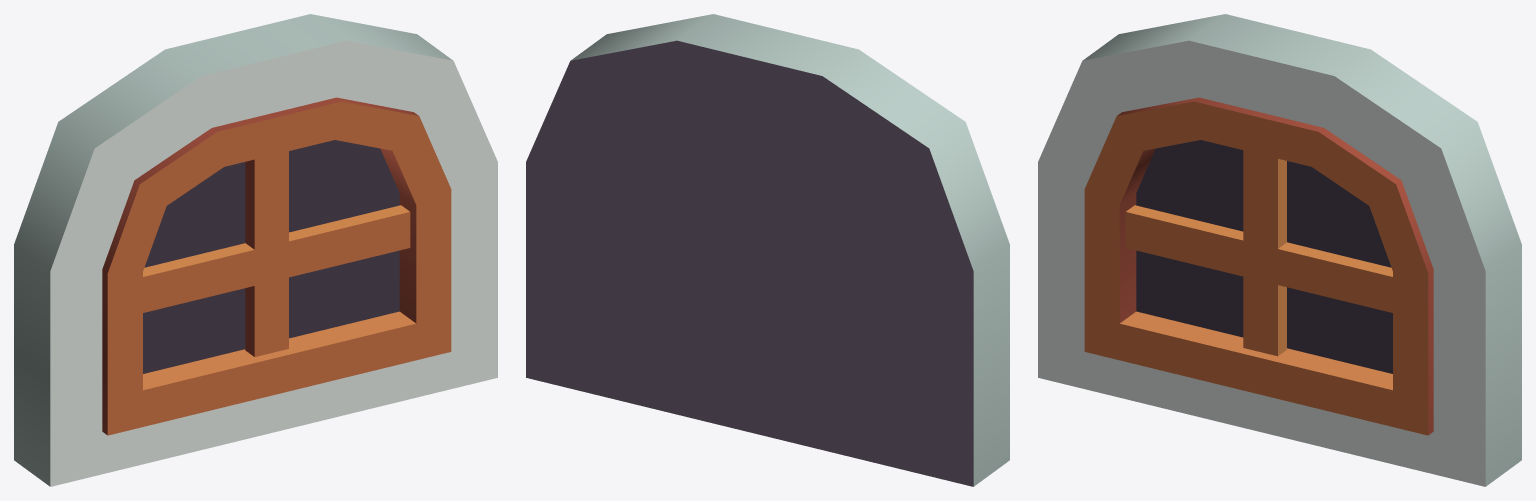
Rendered from Window01_White_Wood.glb.
3 views of the same model, side by side, from view 1: azimuth 30°, elevation 25°; view 2: azimuth 150°, elevation 25°; view 3: azimuth 330°, elevation 25° (orthographic).
Visible parts, largest first — view 1: Window01_White_Wood; view 2: Window01_White_Wood; view 3: Window01_White_Wood.
Part boxes in pixels (x1,y1,x2,y2): Window01_White_Wood: [14, 14, 497, 486]; Window01_White_Wood: [526, 14, 1009, 486]; Window01_White_Wood: [1038, 14, 1521, 486].
Bounding box in the file's own units: 0.8998 × 0.7186 × 0.1456.
Materials: 1 (1 with a texture image).
